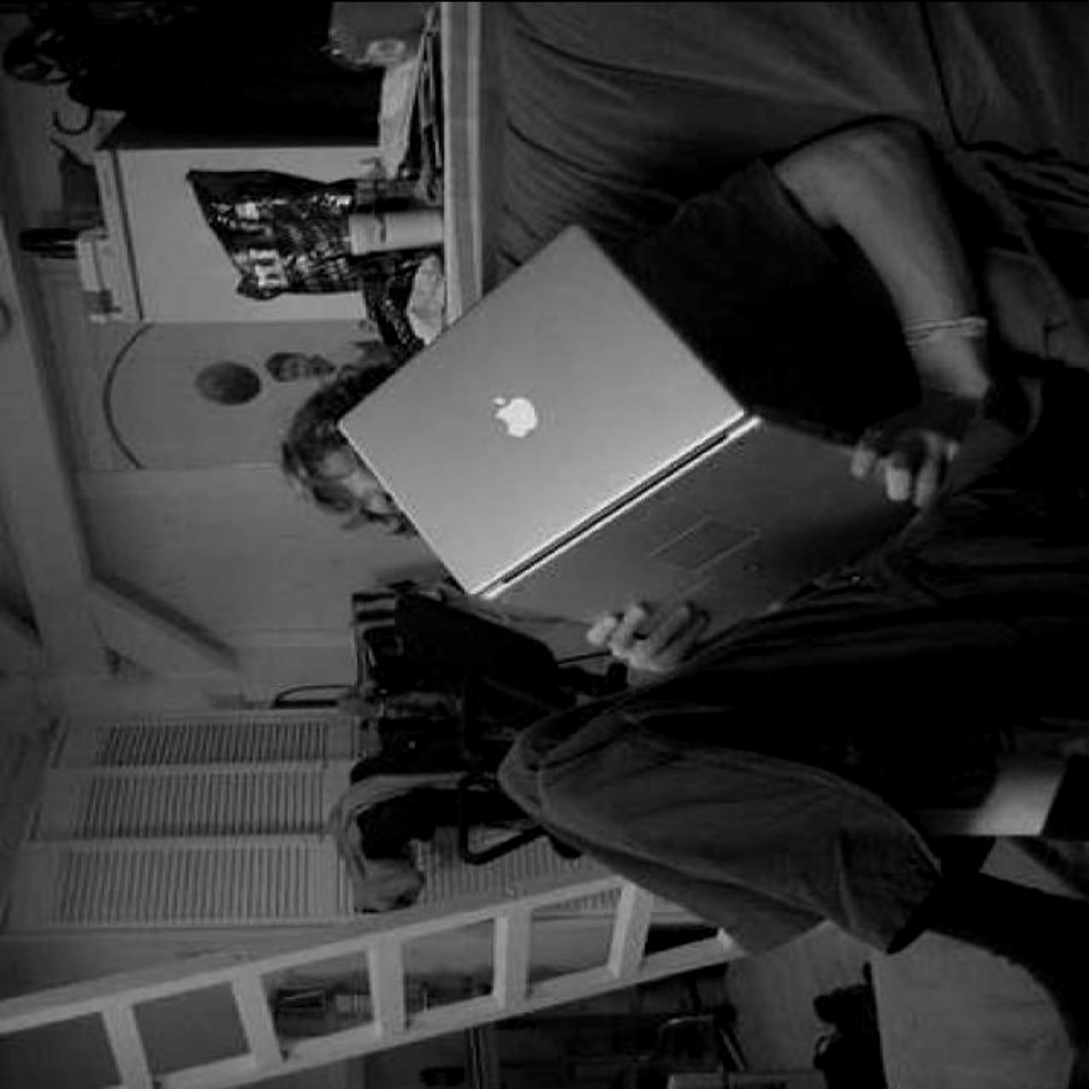laptop: (342, 237, 873, 669)
